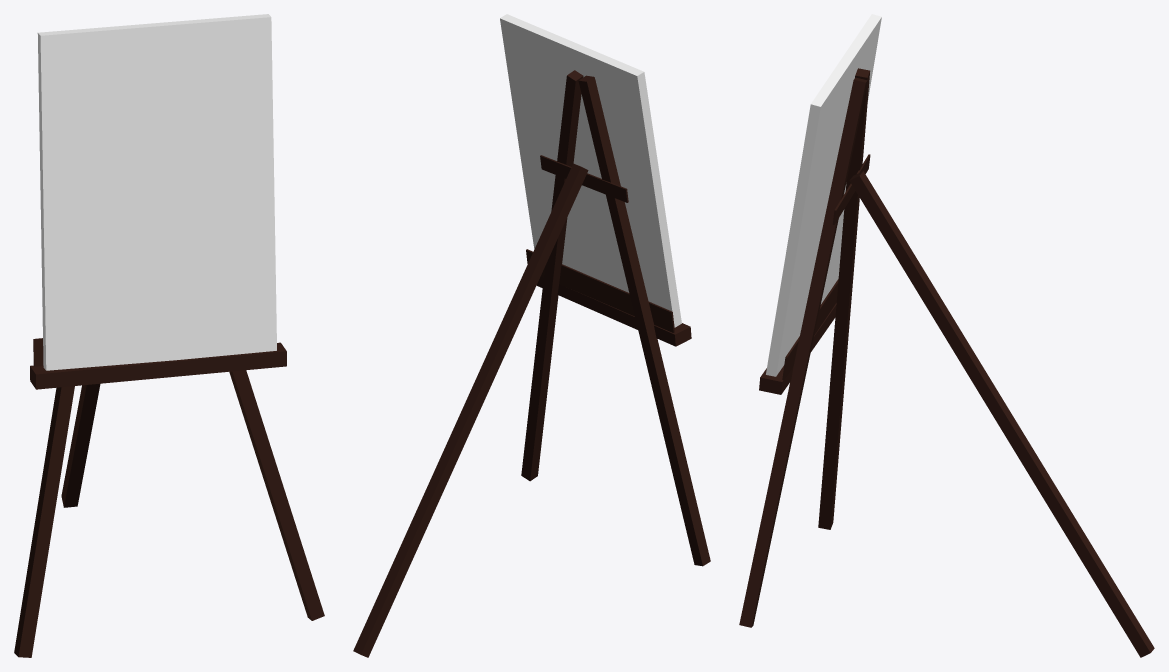
Rendered from Easel.obj.
3 renders of one model, left to right at view 1: azimuth 30°, elevation 25°; view 2: azimuth 150°, elevation 25°; view 3: azimuth 270°, elevation 25°, orthographic. The views are drawn at different scales.
Visible parts, largest first — view 1: group1441049998, group1958263894; view 2: group1958263894, group1441049998; view 3: group1958263894, group1441049998.
Part boxes in pixels (bbox=[...]): group1441049998: bbox=[37, 14, 276, 370]; group1958263894: bbox=[14, 338, 324, 657]; group1958263894: bbox=[353, 70, 710, 657]; group1441049998: bbox=[500, 14, 681, 327]; group1958263894: bbox=[739, 68, 1154, 657]; group1441049998: bbox=[766, 14, 881, 376].
Size of the model in its own units: 2.82 by 6.4 by 4.29.
